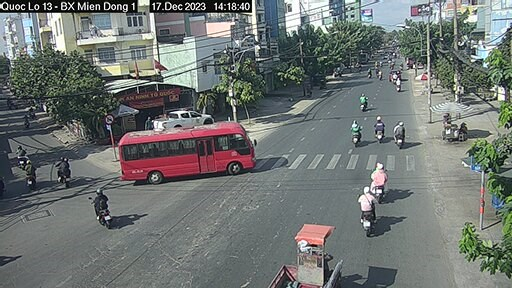bus: (114, 128, 254, 179)
car: (149, 109, 214, 131)
motorbike: (89, 189, 115, 230), (358, 188, 378, 239), (51, 156, 72, 186), (20, 161, 38, 193), (375, 163, 388, 207), (374, 114, 385, 143), (352, 124, 363, 146), (395, 121, 403, 145)
